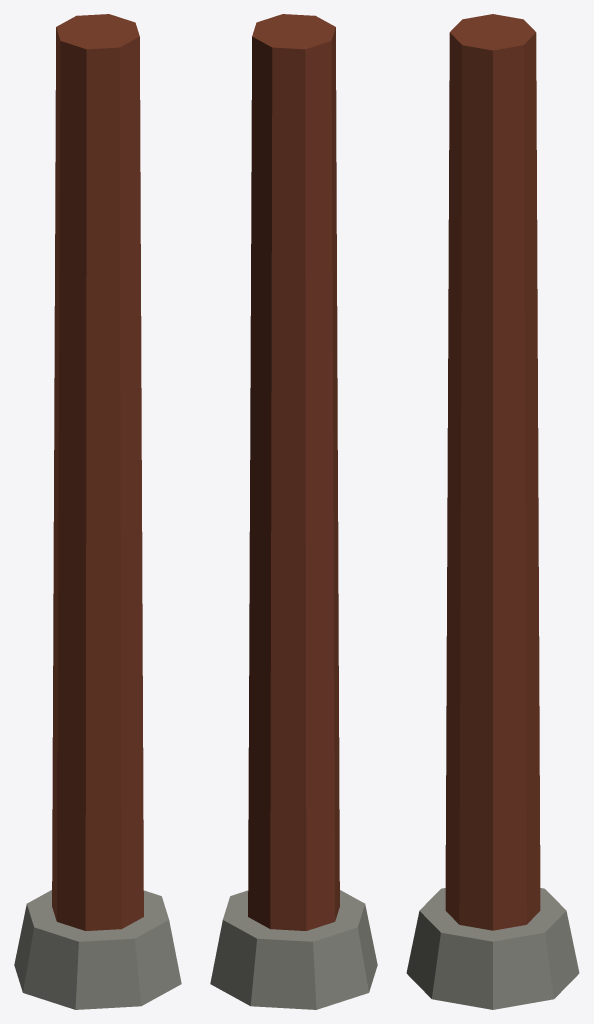
Rendered from hanok_pillar_round.glb.
The picture shows the model from 3 angles, left to right: view 1: azimuth 30°, elevation 25°; view 2: azimuth 150°, elevation 25°; view 3: azimuth 270°, elevation 25°; orthographic projection.
Parts seen in each view (by area): view 1: hanok_pillar_round; view 2: hanok_pillar_round; view 3: hanok_pillar_round.
Boxes of the visible parts, <box> form: hanok_pillar_round: <box>14,14,181,1009</box>; hanok_pillar_round: <box>210,14,377,1009</box>; hanok_pillar_round: <box>406,14,579,1009</box>.
Size of the model in its own units: 0.4 by 2.4 by 0.4.
